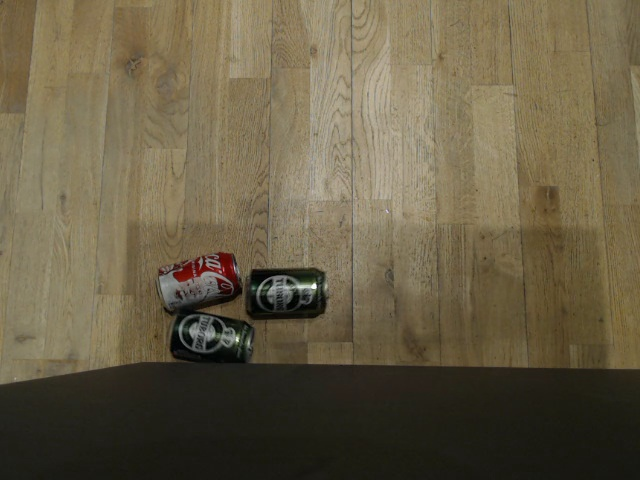beer: (242, 261, 334, 322), (169, 312, 258, 364)
cola: (149, 246, 242, 307)
